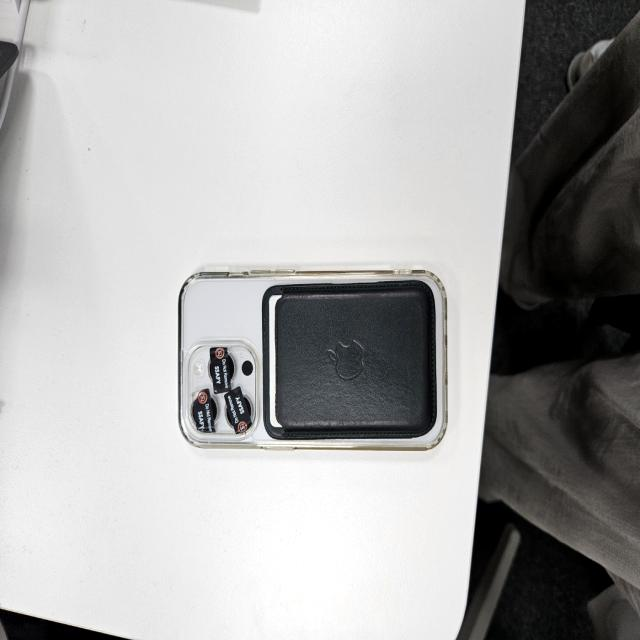phone: (177, 270, 449, 450)
sticker: (224, 385, 252, 435), (191, 388, 216, 433), (210, 348, 232, 393)
